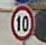limite 10: (10, 4, 34, 41)
